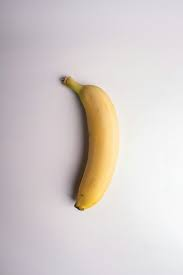Banana: (58, 72, 126, 215)
